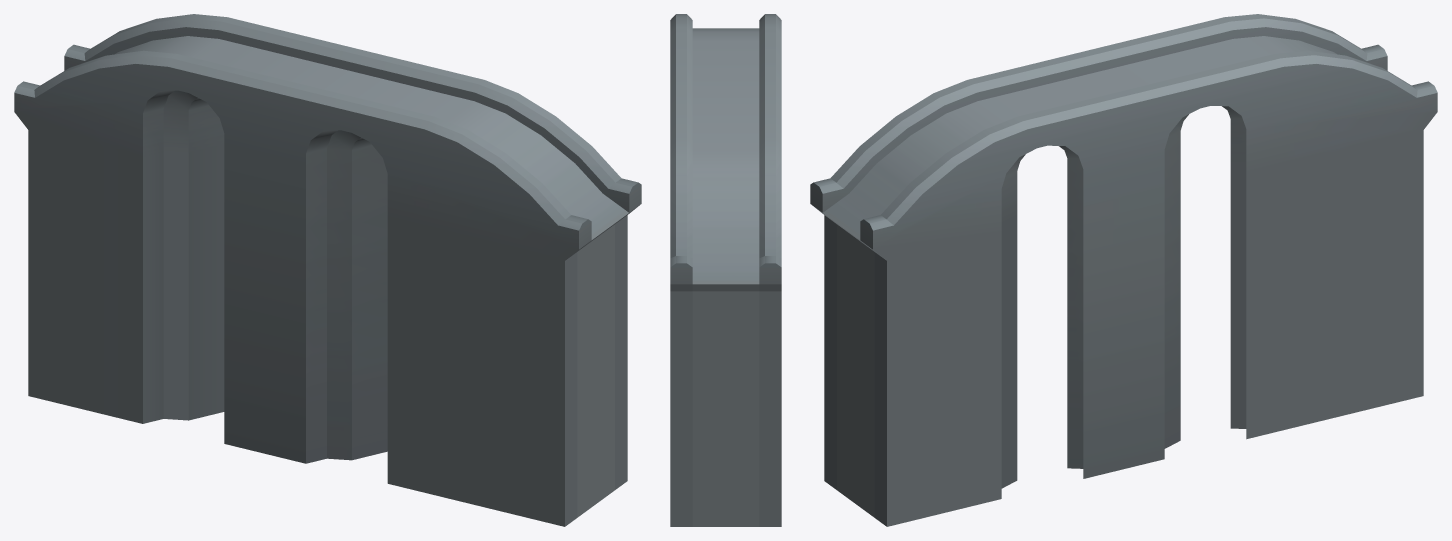
File: bridge-a.glb
3 views of the same model, side by side, from view 1: azimuth 30°, elevation 25°; view 2: azimuth 150°, elevation 25°; view 3: azimuth 270°, elevation 25° (orthographic). The views are drawn at different scales.
Visible parts, largest first — view 1: building_bridge_A; view 2: building_bridge_A; view 3: building_bridge_A.
Boxes of the visible parts, left/top/right/bottom form: building_bridge_A: left=14, top=14, right=641, bottom=526; building_bridge_A: left=670, top=14, right=781, bottom=526; building_bridge_A: left=810, top=14, right=1437, bottom=526.
Bounding box in the file's own units: 1.33 × 1.25 × 1.92.
1 material, 1 textured.
